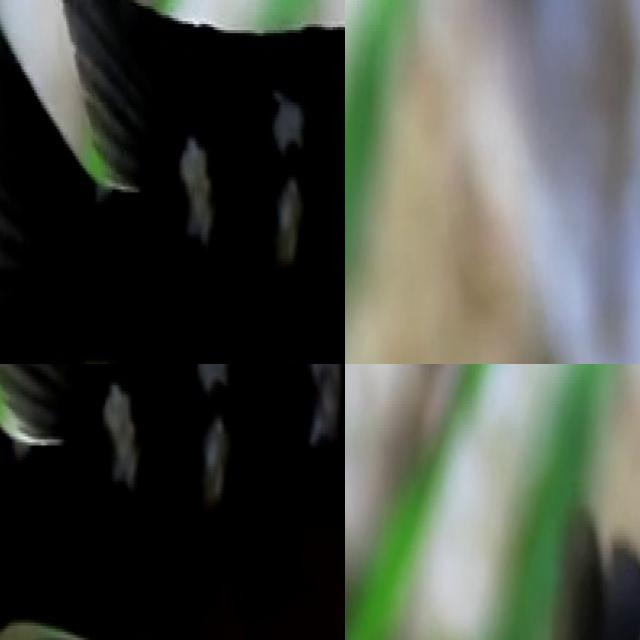fish: (0, 0, 345, 364), (345, 488, 640, 640)
